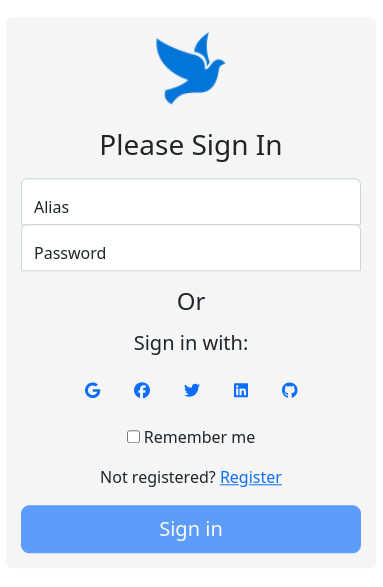
Login component › if either field is cleared, the sign in button is disabled
In the field labelled "Alias": (191, 201) top-left (21, 178), bottom-right (361, 225), type "test"
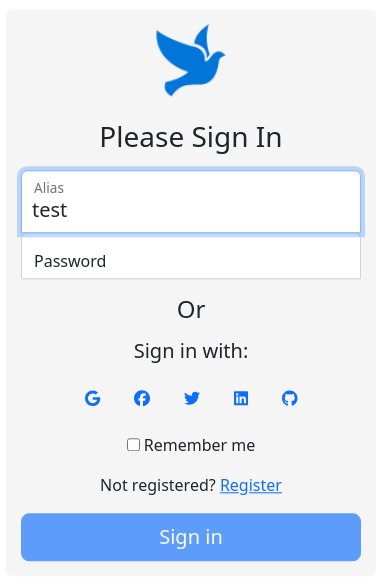
In the password field labelled "Password": (191, 255) top-left (21, 232), bottom-right (361, 279), type "test"
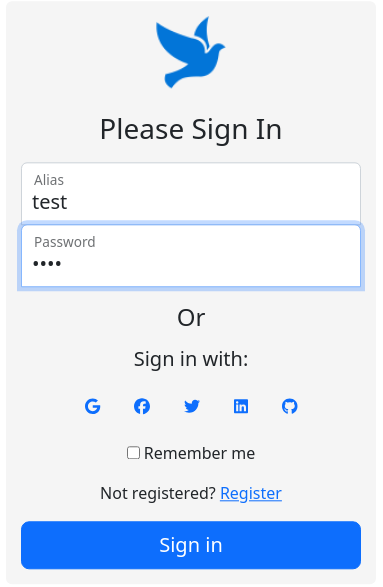
Now the button "Sign in" is enabled, box top-left (21, 522), bottom-right (361, 570)
Clear the field labelled "Alias": (191, 193) top-left (21, 162), bottom-right (361, 225)
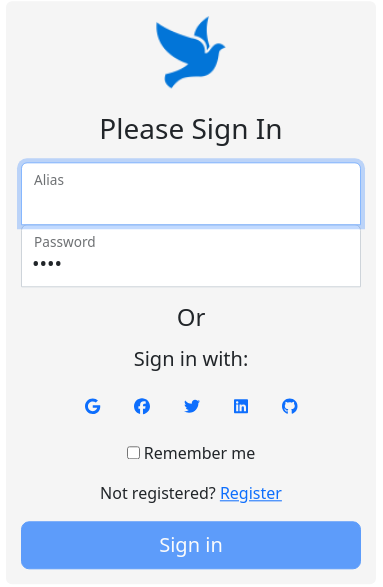
Now the button "Sign in" is disabled, box top-left (21, 522), bottom-right (361, 570)
In the field labelled "Alias": (191, 193) top-left (21, 162), bottom-right (361, 225), type "test"
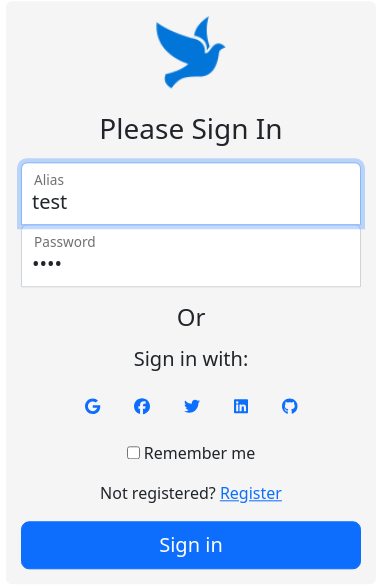
Clear the password field labelled "Password": (191, 255) top-left (21, 224), bottom-right (361, 287)
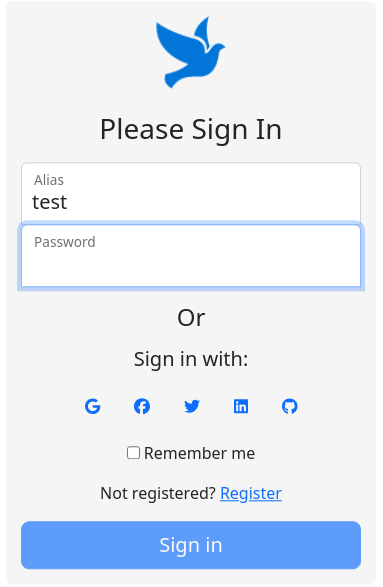
Now the button "Sign in" is disabled, box top-left (21, 522), bottom-right (361, 570)
